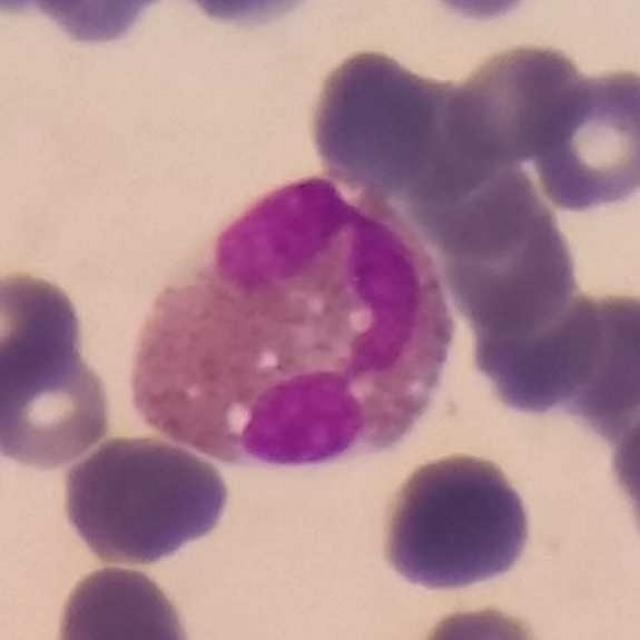Eosinophil: (115, 175, 463, 475)
RBC: (56, 431, 236, 569), (375, 447, 538, 598), (434, 183, 581, 337), (303, 44, 443, 190), (465, 281, 610, 418), (442, 38, 591, 166), (522, 62, 640, 217), (0, 337, 117, 472), (547, 286, 640, 433), (0, 263, 89, 407), (49, 560, 198, 640), (14, 0, 186, 53), (157, 0, 342, 35), (604, 392, 640, 566), (408, 600, 559, 640), (413, 0, 552, 29)
